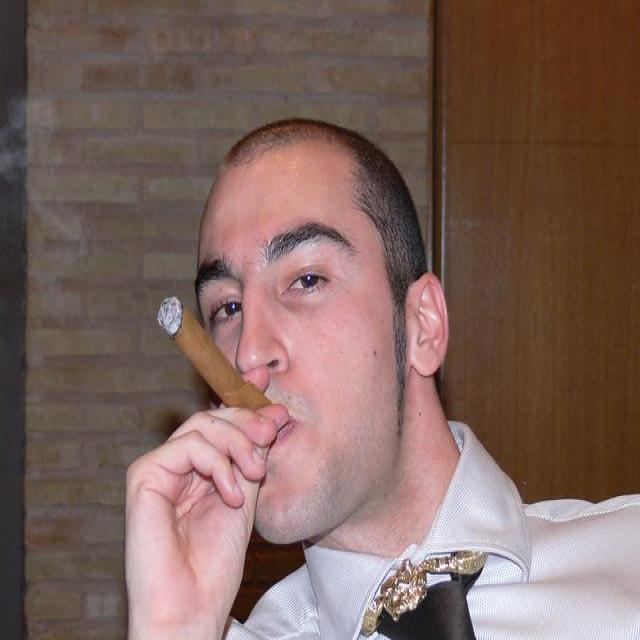cigarette: (141, 268, 288, 453)
